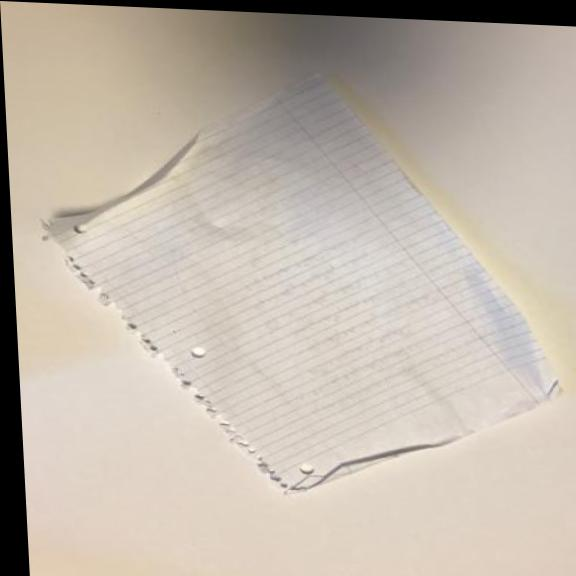Kertas: (29, 49, 576, 511)
